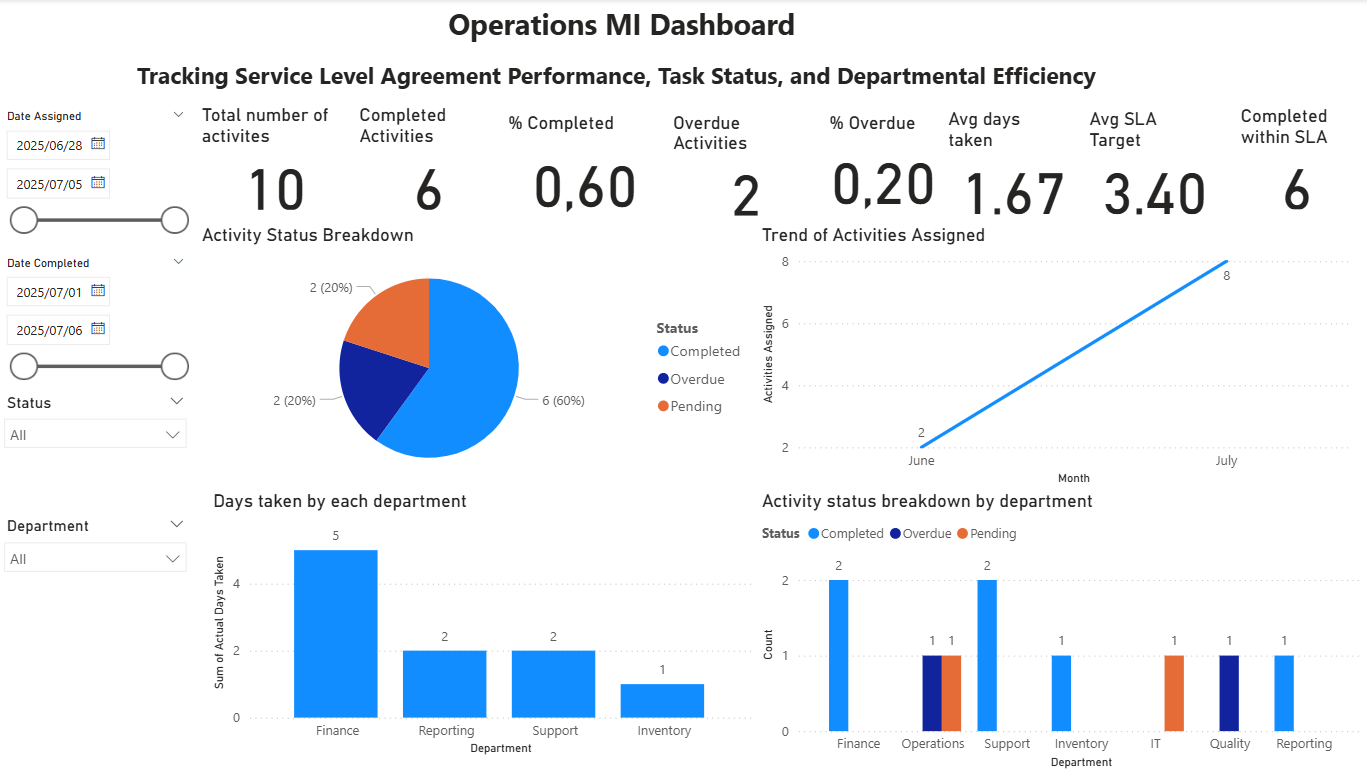

The page's visual inventory and layout, read from the dashboard file:
{"tool":"powerbi","page":{"name":"Page 1","canvas":[1280,720],"ordinal":0},"visuals":[{"type":"textbox","box":[418.5,0,354,50.8],"z":0},{"type":"textbox","box":[129,50.8,933.1,48],"z":1},{"type":"card","title":"Total number of activites","fields":{"Values":["Operations.Number of Activities"]},"box":[189.9,98.1,145.9,103.1],"z":2},{"type":"card","title":" Completed Activities","fields":{"Values":["Operations.Completed Activities"]},"box":[335.8,98.1,138.3,103.1],"z":3},{"type":"card","title":"% Completed","fields":{"Values":["Operations.% Completed"]},"box":[474.1,104.4,153.4,104.4],"z":4},{"type":"card","title":"Overdue Activities","fields":{"Values":["Operations.Overdue Activities"]},"box":[627.6,104.4,145.9,101.9],"z":5},{"type":"card","title":"% Overdue","fields":{"Values":["Operations.% Overdue"]},"box":[773.4,104.4,110.7,100.6],"z":6},{"type":"card","title":"Avg days taken","fields":{"Values":["Operations.Avg Days Taken"]},"box":[884.1,100.6,130.8,104.4],"z":7},{"type":"card","title":"Avg SLA Target","fields":{"Values":["Operations.Avg SLA Target"]},"box":[1014.9,100.6,132,104.4],"z":8},{"type":"pieChart","title":"Activity Status Breakdown","fields":{"Category":["Operations.Status"],"Y":["CountNonNull(Operations.Activity ID)"]},"box":[189.9,208.8,520.7,247.8],"z":9},{"type":"clusteredColumnChart","title":"Activity status breakdown by department","fields":{"Series":["Operations.Status"],"Category":["Operations.Department"],"Y":["CountNonNull(Operations.Activity ID)"]},"box":[710.6,456.5,569.7,264.1],"z":10},{"type":"card","title":"Completed within SLA","fields":{"Values":["Operations.Completed Within SLA"]},"box":[1155.8,99.4,114.4,101.9],"z":11},{"type":"lineChart","title":"Trend of Activities Assigned","fields":{"Category":["Operations.Date Assigned.Variation.Date Hierarchy.Month","Operations.Date Assigned.Variation.Date Hierarchy.Day"],"Y":["Operations.Activities Assigned"]},"box":[710.6,208.8,555.9,247.8],"z":12},{"type":"slicer","fields":{"Values":["Operations.Status"]},"box":[0,362.2,189.9,114.4],"z":15},{"type":"slicer","fields":{"Values":["Operations.Date Assigned"]},"box":[0,98.1,189.9,135.8],"z":16},{"type":"slicer","fields":{"Values":["Operations.Date Completed"]},"box":[0,233.9,189.9,128.3],"z":17},{"type":"slicer","fields":{"Values":["Operations.Department"]},"box":[0,476.6,189.9,123.2],"z":18},{"type":"clusteredColumnChart","title":"Days taken by each department","fields":{"Y":["Sum(Operations.Actual Days Taken)"],"Category":["Operations.Department"]},"box":[200,456.5,510.6,251.5],"z":19}]}

Visuals, with their boxes in screenshot pixels (x1, y1, x2, y2), scaled from the page's 1280x720 canvas onto the 1367x771 screenshot:
textbox: {"x1": 447, "y1": 0, "x2": 825, "y2": 54}
textbox: {"x1": 138, "y1": 54, "x2": 1134, "y2": 106}
"Total number of activites" card: {"x1": 203, "y1": 105, "x2": 359, "y2": 215}
" Completed Activities" card: {"x1": 359, "y1": 105, "x2": 506, "y2": 215}
"% Completed" card: {"x1": 506, "y1": 112, "x2": 670, "y2": 224}
"Overdue Activities" card: {"x1": 670, "y1": 112, "x2": 826, "y2": 221}
"% Overdue" card: {"x1": 826, "y1": 112, "x2": 944, "y2": 220}
"Avg days taken" card: {"x1": 944, "y1": 108, "x2": 1084, "y2": 220}
"Avg SLA Target" card: {"x1": 1084, "y1": 108, "x2": 1225, "y2": 220}
"Activity Status Breakdown" pieChart: {"x1": 203, "y1": 224, "x2": 759, "y2": 489}
"Activity status breakdown by department" clusteredColumnChart: {"x1": 759, "y1": 489, "x2": 1366, "y2": 770}
"Completed within SLA" card: {"x1": 1234, "y1": 106, "x2": 1357, "y2": 216}
"Trend of Activities Assigned" lineChart: {"x1": 759, "y1": 224, "x2": 1353, "y2": 489}
slicer - Operations.Status: {"x1": 0, "y1": 388, "x2": 203, "y2": 510}
slicer - Operations.Date Assigned: {"x1": 0, "y1": 105, "x2": 203, "y2": 250}
slicer - Operations.Date Completed: {"x1": 0, "y1": 250, "x2": 203, "y2": 388}
slicer - Operations.Department: {"x1": 0, "y1": 510, "x2": 203, "y2": 642}
"Days taken by each department" clusteredColumnChart: {"x1": 214, "y1": 489, "x2": 759, "y2": 758}
